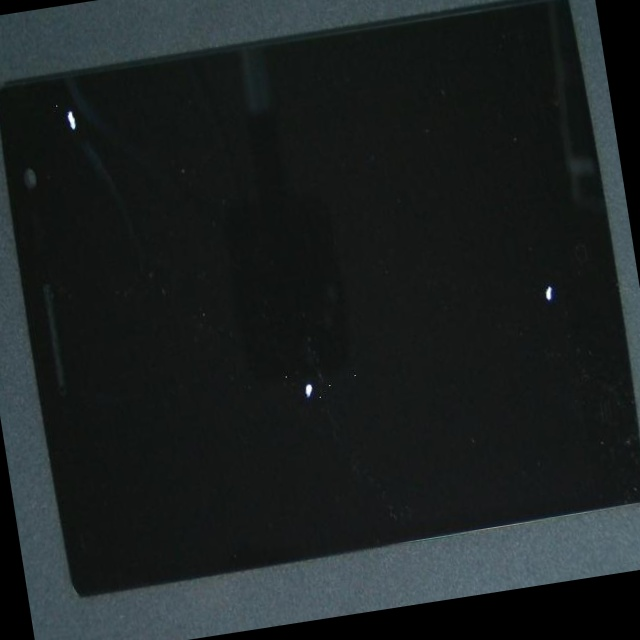stain: (239, 110, 640, 540), (131, 116, 477, 604), (0, 47, 127, 225)
